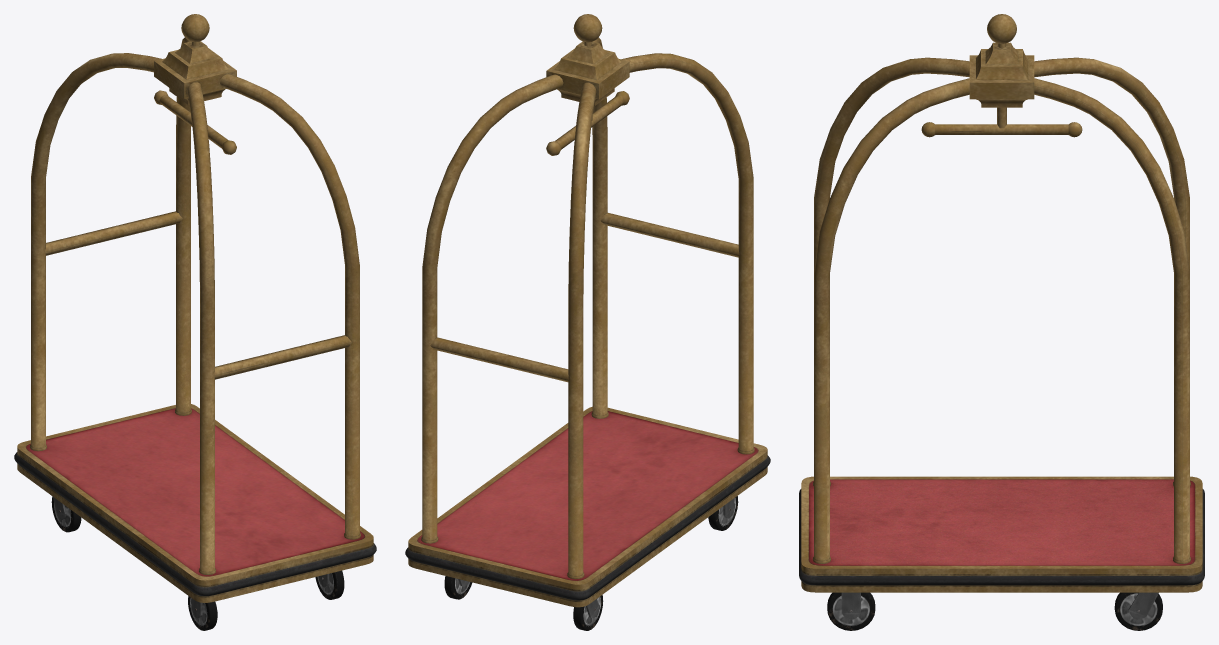
Rendered from gold_hotel_luggage_trolley_fallout_miami.glb.
3 views of the same model, side by side, from view 1: azimuth 30°, elevation 25°; view 2: azimuth 150°, elevation 25°; view 3: azimuth 270°, elevation 25° (orthographic). The views are drawn at different scales.
Visible parts, largest first — view 1: trolley; view 2: trolley; view 3: trolley.
Boxes of the visible parts, x1,y1,x2,y2 form: trolley: (14, 14, 376, 630); trolley: (405, 14, 770, 630); trolley: (799, 14, 1204, 630).
Size of the model in its own units: 0.6949 by 2 by 1.27.
1 material, 1 textured.
